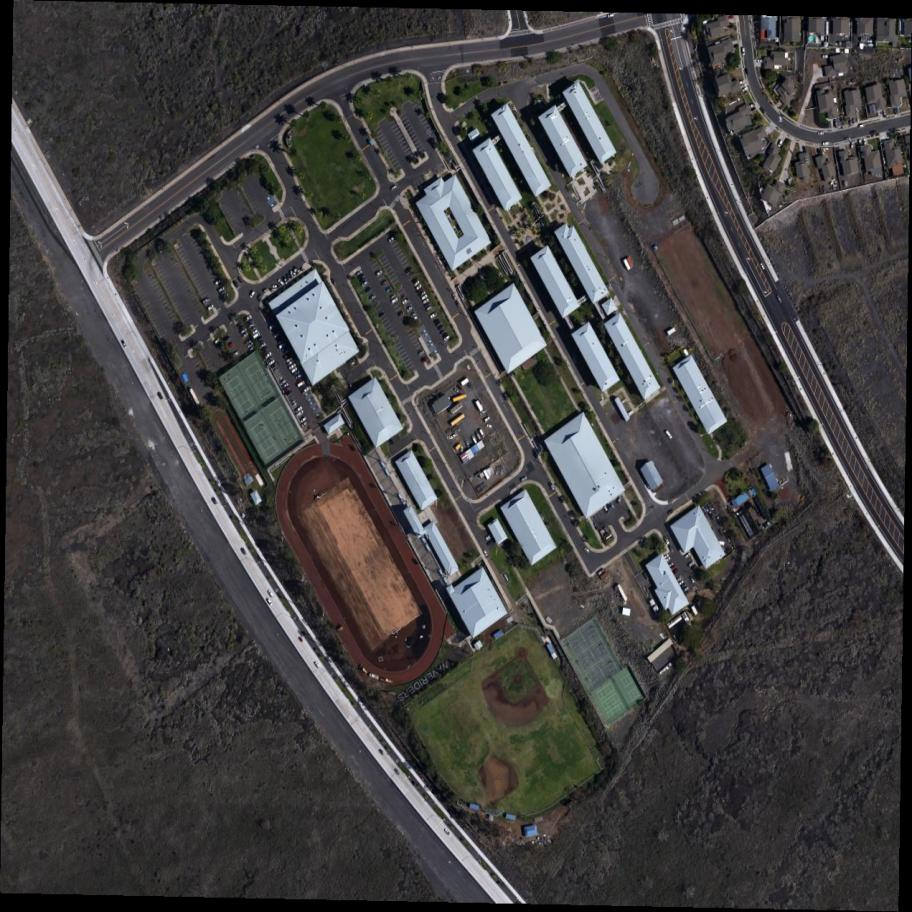small-vehicle: (119, 339, 128, 350), (265, 596, 274, 606), (239, 546, 248, 556), (391, 296, 400, 305), (264, 352, 273, 360), (299, 416, 308, 424), (443, 828, 452, 836), (210, 497, 218, 506), (156, 392, 164, 401), (273, 331, 282, 339), (268, 323, 277, 331), (443, 334, 452, 342), (430, 311, 439, 319), (361, 280, 369, 289), (520, 475, 529, 483), (548, 481, 555, 491), (478, 428, 485, 438), (474, 430, 481, 440), (295, 406, 303, 414), (393, 767, 401, 775), (378, 747, 386, 755), (759, 106, 767, 114), (376, 269, 384, 277), (413, 280, 421, 288), (402, 297, 410, 305), (267, 589, 274, 598), (370, 294, 377, 303), (471, 435, 478, 444), (213, 338, 221, 345), (232, 350, 240, 357), (247, 342, 254, 350), (245, 315, 253, 322), (296, 410, 304, 417), (301, 421, 308, 429), (302, 387, 310, 394), (202, 297, 210, 304), (288, 364, 296, 371), (485, 535, 493, 542), (483, 415, 490, 423), (665, 431, 672, 439), (425, 304, 433, 311), (415, 283, 423, 290), (449, 432, 457, 439), (776, 294, 782, 303), (249, 290, 255, 299), (603, 505, 609, 514), (777, 139, 783, 148), (291, 367, 298, 374), (244, 339, 251, 346), (242, 332, 249, 339), (253, 332, 260, 339), (280, 379, 287, 386), (298, 382, 305, 389), (215, 278, 222, 285), (218, 285, 225, 292), (295, 374, 302, 381), (286, 361, 293, 368), (584, 547, 591, 554), (398, 311, 405, 318), (421, 294, 428, 301), (357, 269, 364, 276), (483, 550, 490, 557), (678, 580, 685, 587), (607, 13, 615, 19), (315, 662, 321, 670), (297, 635, 303, 643), (664, 538, 670, 546), (382, 280, 390, 286), (405, 269, 413, 275), (422, 298, 430, 304), (387, 236, 395, 242), (744, 67, 749, 76), (277, 279, 284, 285), (250, 345, 256, 352), (248, 323, 255, 329), (250, 326, 257, 332), (252, 328, 258, 335), (260, 343, 267, 349), (268, 360, 275, 366), (208, 304, 215, 310), (220, 290, 227, 296), (668, 545, 674, 552), (421, 356, 428, 362), (379, 312, 386, 318), (226, 344, 233, 350), (418, 350, 425, 356), (682, 587, 689, 593), (387, 287, 393, 293), (453, 388, 459, 394), (742, 47, 746, 56), (663, 554, 669, 560), (284, 359, 290, 365), (407, 305, 413, 311), (685, 553, 691, 559), (286, 273, 291, 280), (282, 275, 287, 282), (282, 383, 289, 388), (237, 275, 242, 282), (486, 423, 493, 428), (850, 142, 855, 149), (241, 328, 246, 334), (456, 384, 461, 390), (669, 563, 675, 568), (858, 138, 862, 145), (822, 141, 829, 145), (822, 54, 829, 58), (863, 138, 867, 145), (666, 557, 671, 562), (290, 270, 294, 276), (761, 263, 765, 269), (390, 295, 396, 299), (294, 268, 297, 274), (818, 132, 824, 135), (857, 125, 863, 128), (272, 285, 277, 288)
